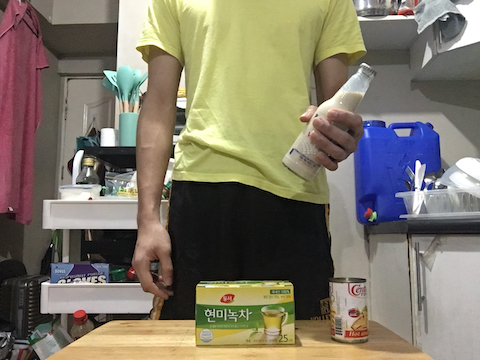bottle: (280, 58, 378, 185)
box: (191, 277, 299, 350)
can: (326, 274, 370, 346)
grab: (309, 104, 366, 173)
